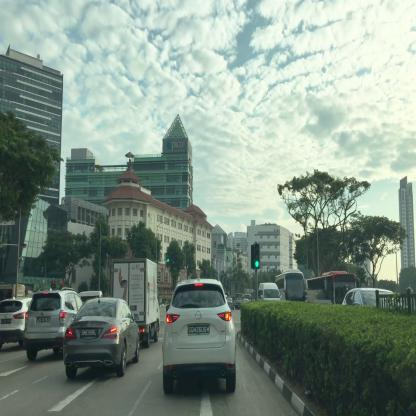green_traffic_light: (254, 242, 260, 270)
